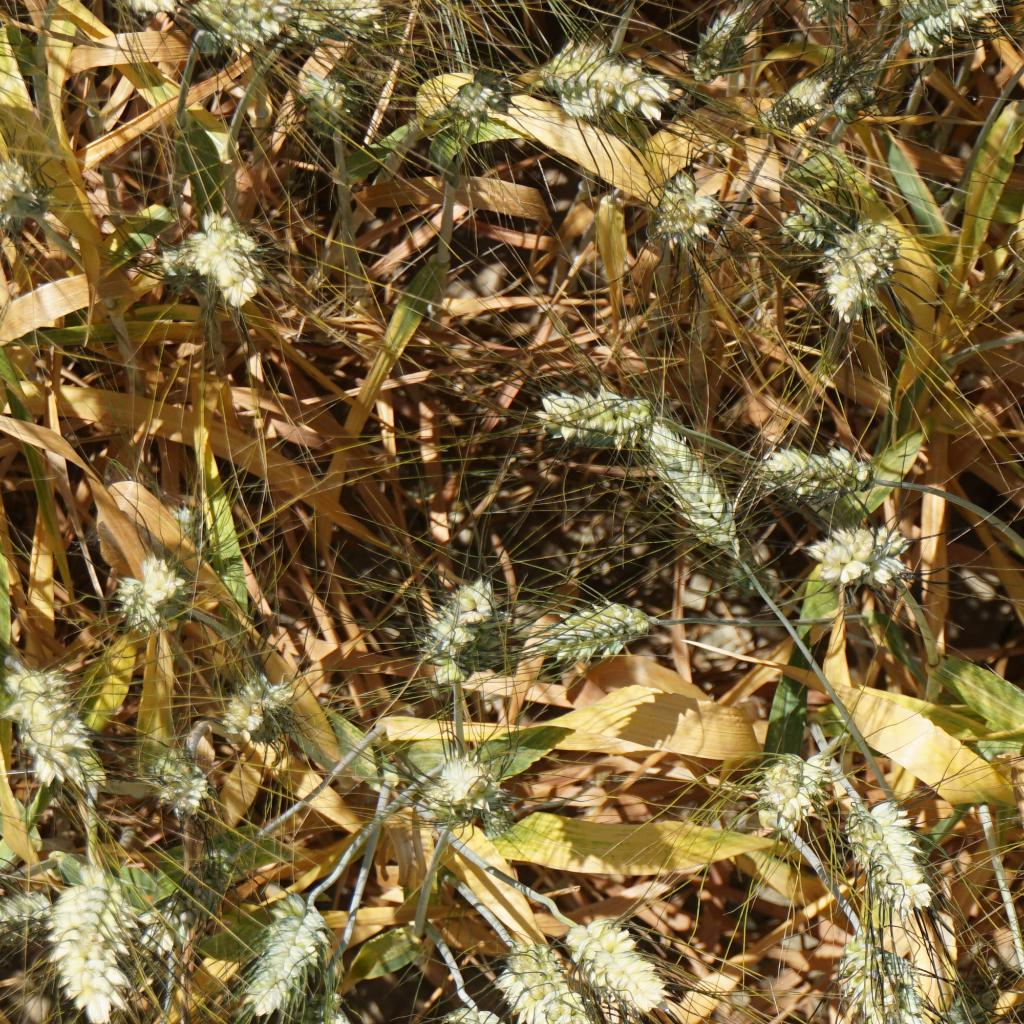0-0: (144, 828, 272, 966), (39, 854, 135, 1024), (628, 393, 732, 549), (0, 651, 104, 801), (555, 898, 677, 1024), (521, 25, 673, 116), (230, 884, 314, 1017), (535, 368, 651, 456), (805, 507, 917, 598), (500, 933, 610, 1024), (842, 799, 931, 907), (842, 933, 937, 1024), (185, 190, 263, 299), (537, 577, 642, 657), (403, 565, 496, 655), (135, 736, 222, 828), (415, 748, 505, 835), (819, 206, 891, 313), (118, 543, 200, 628), (893, 0, 1006, 57), (171, 0, 287, 55), (415, 72, 500, 145), (748, 417, 828, 494), (744, 742, 811, 828), (748, 65, 833, 132), (633, 167, 712, 238), (222, 659, 291, 740), (289, 57, 360, 135), (0, 153, 65, 236), (685, 6, 774, 57), (435, 980, 516, 1024), (952, 955, 999, 1024), (0, 876, 39, 939), (258, 1002, 352, 1024), (1014, 1006, 1024, 1024)
